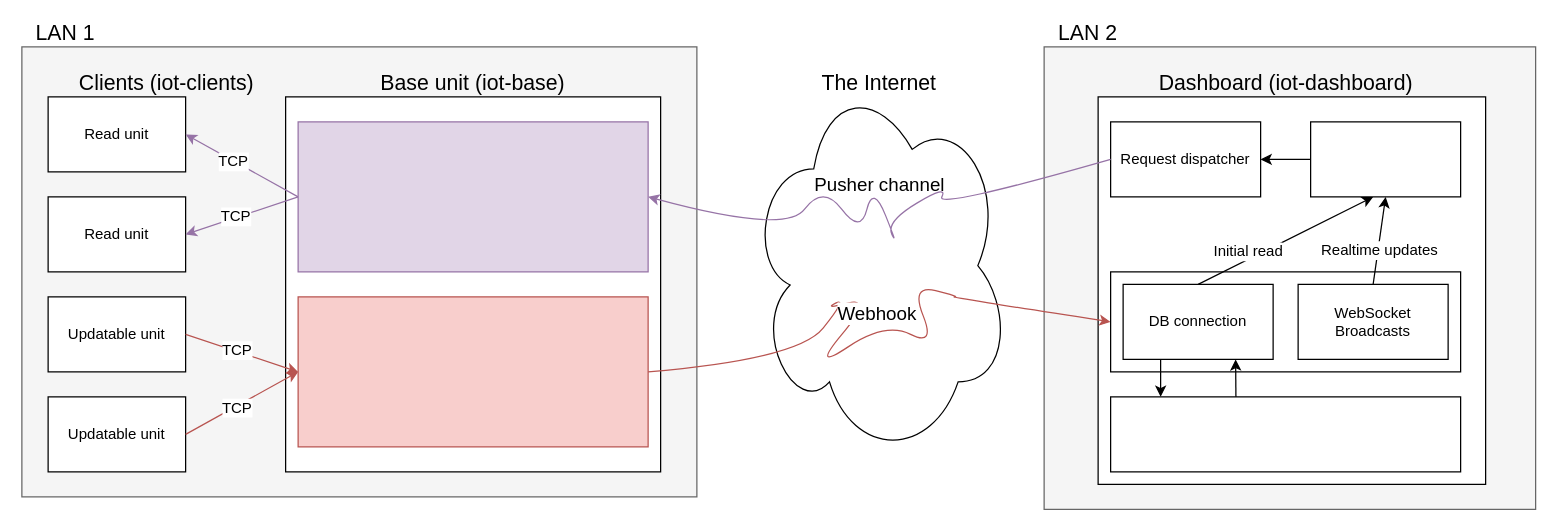
The diagram is 1558 pixels wide and 531 high, and some of its shapes have lost their labels. The shapes that lost their labels are listed below. From the top down, each one's box as (x1, y1, x2, y2) in pixels, then its label:
(1309, 121, 1461, 197): UI
(297, 121, 648, 272): Request Handler
(297, 296, 648, 447): Data Handler
(1109, 396, 1461, 472): Database
